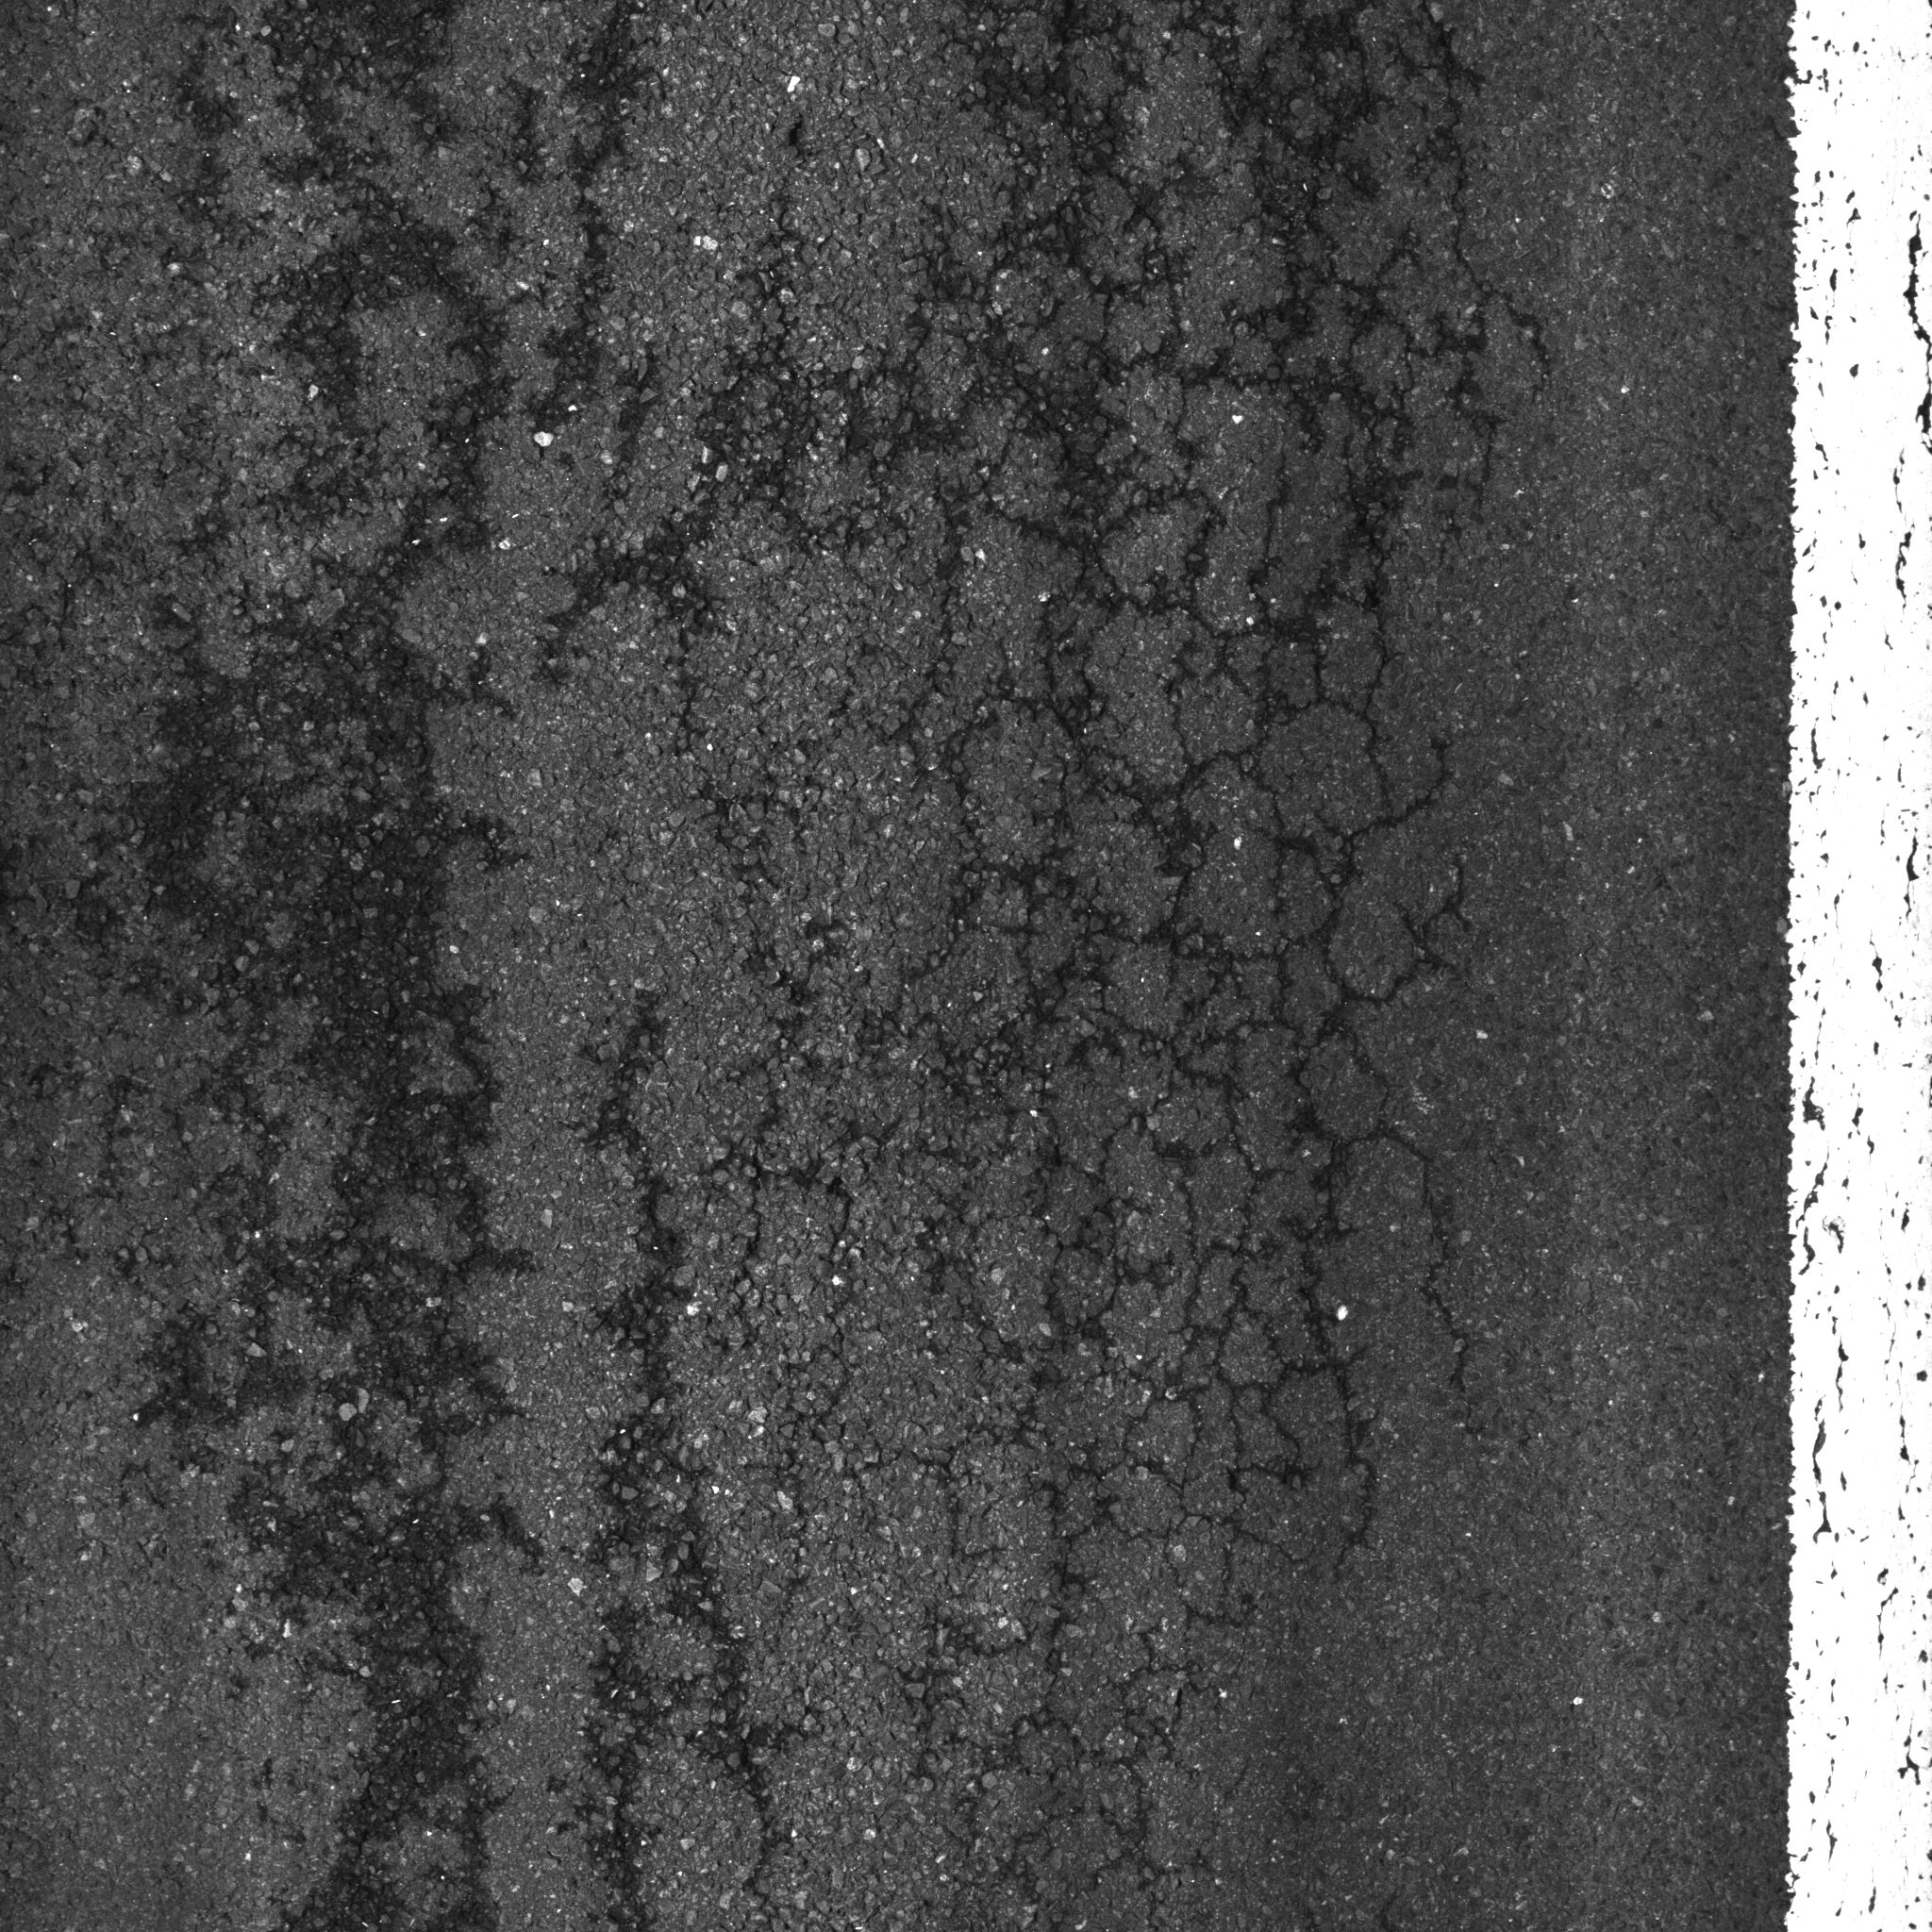alligator: (561, 2, 1566, 1932)
